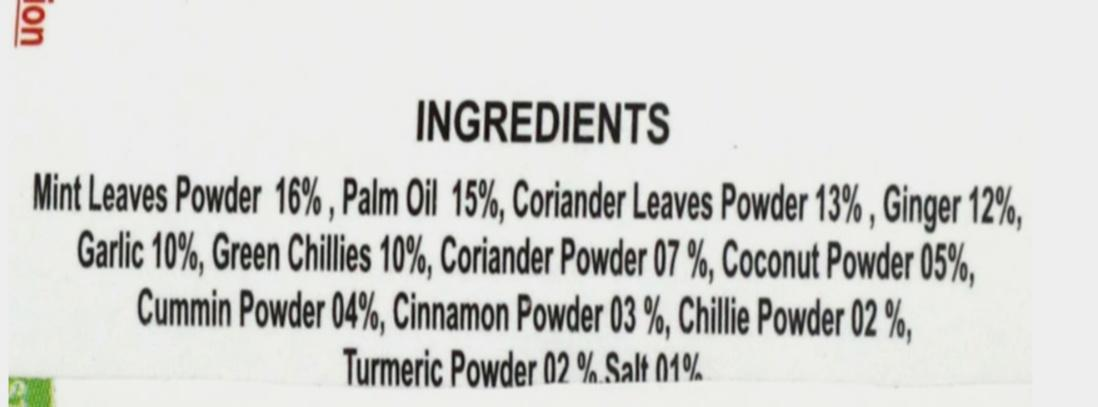ingredients: (22, 59, 1078, 407)
